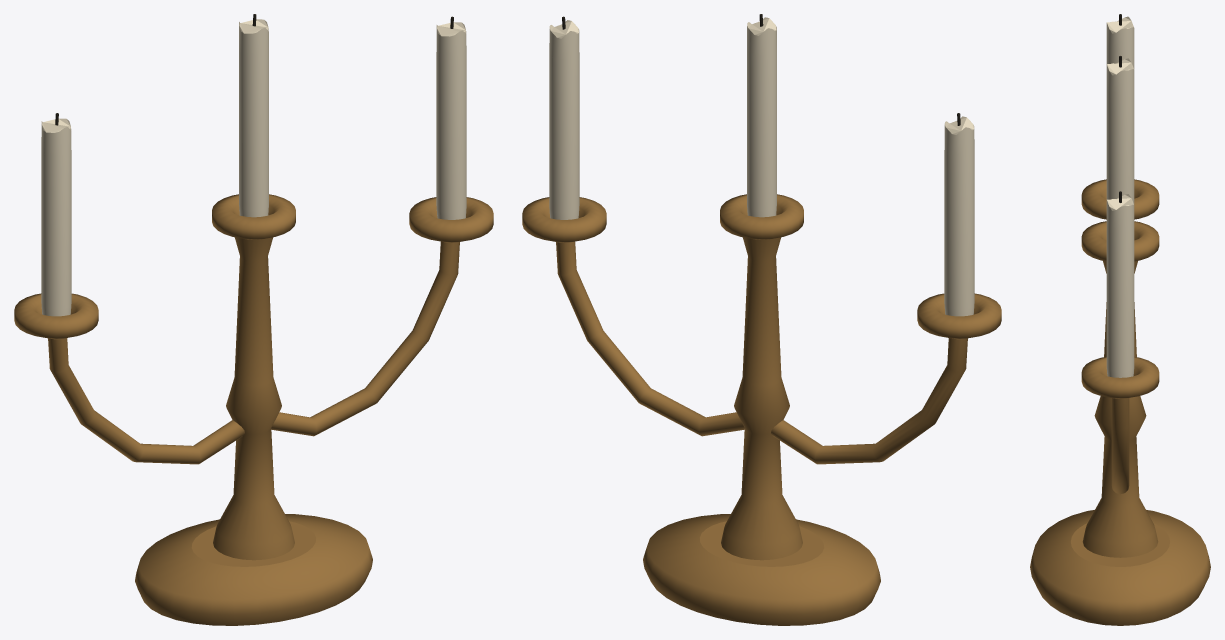
The model's file is rpg-mansion-three-branch-table-candelabrum-01.glb.
The picture shows the model from 3 angles, left to right: view 1: azimuth 30°, elevation 25°; view 2: azimuth 150°, elevation 25°; view 3: azimuth 270°, elevation 25°; orthographic projection. The views are drawn at different scales.
Visible parts, largest first — view 1: rpg-mansion-three-branch-table-candelabrum-01; view 2: rpg-mansion-three-branch-table-candelabrum-01; view 3: rpg-mansion-three-branch-table-candelabrum-01.
Part boxes in pixels (x1,y1,x2,y2): rpg-mansion-three-branch-table-candelabrum-01: (14, 14, 493, 625); rpg-mansion-three-branch-table-candelabrum-01: (522, 14, 1001, 625); rpg-mansion-three-branch-table-candelabrum-01: (1030, 14, 1210, 625).
Bounding box in the file's own units: 0.5 × 0.5811 × 0.182.
